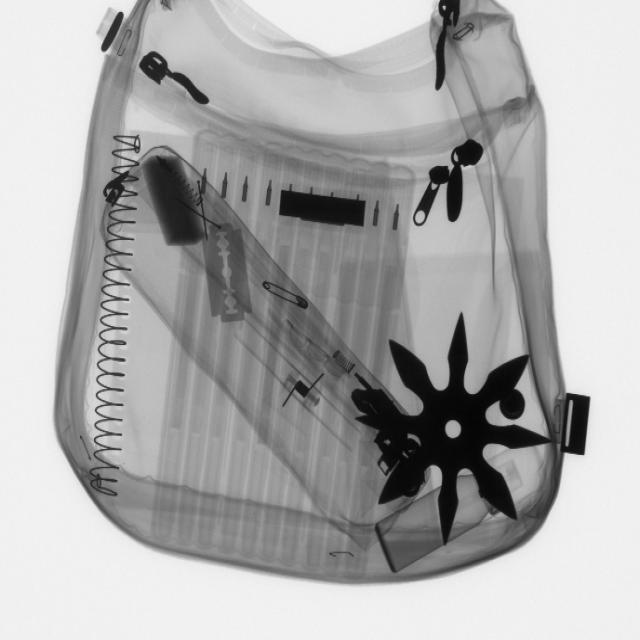BLADE: (199, 204, 262, 332)
SHURIKEN: (358, 314, 548, 549)
